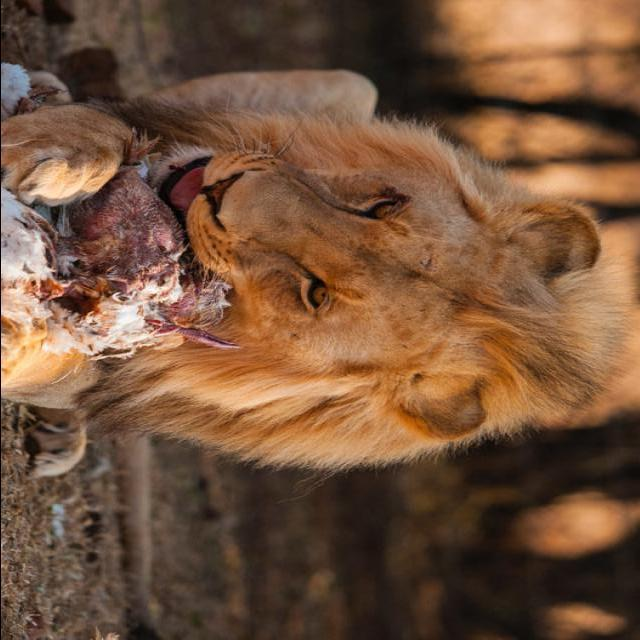lions: (0, 41, 640, 592)
